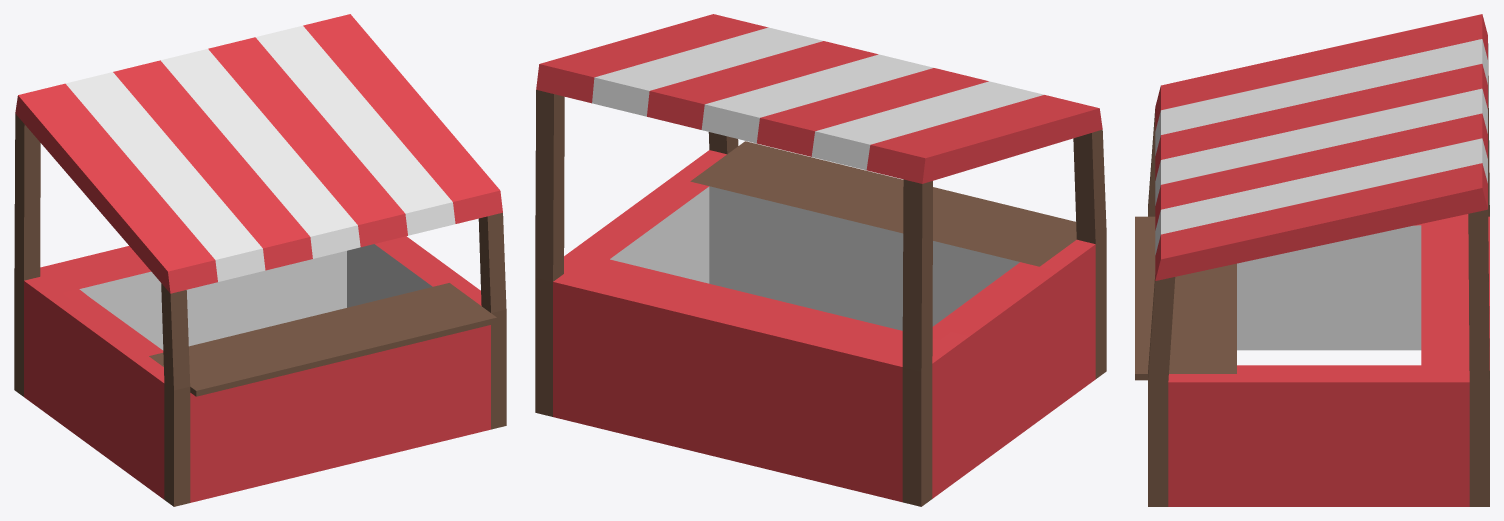
File: foodStall.glb
The picture shows the model from 3 angles, left to right: view 1: azimuth 30°, elevation 25°; view 2: azimuth 150°, elevation 25°; view 3: azimuth 270°, elevation 25°; orthographic projection. The views are drawn at different scales.
Visible parts, largest first — view 1: stall; view 2: stall; view 3: stall.
Boxes of the visible parts, x1=… form: stall: x1=14, y1=14, x2=506, y2=506; stall: x1=535, y1=14, x2=1106, y2=506; stall: x1=1135, y1=14, x2=1489, y2=506.
Bounding box in the file's own units: 5.98 × 5.11 × 5.15.
